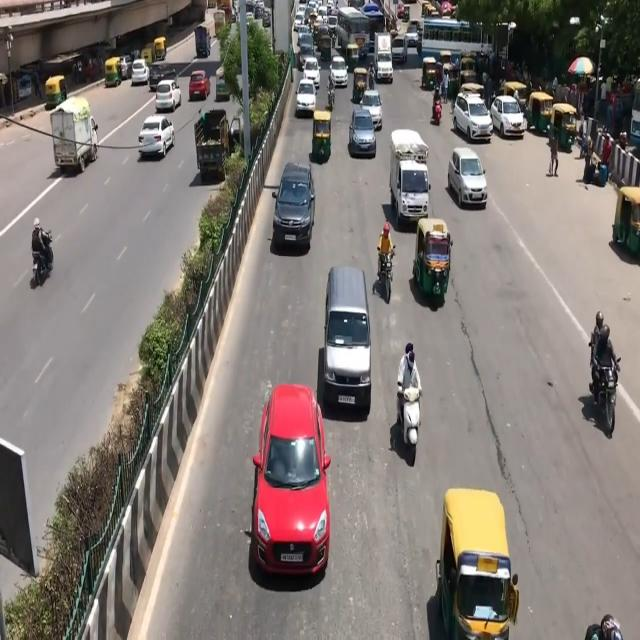Bike: (578, 310, 628, 450), (371, 208, 402, 311)
Scooty: (398, 343, 432, 468), (428, 84, 446, 130)
